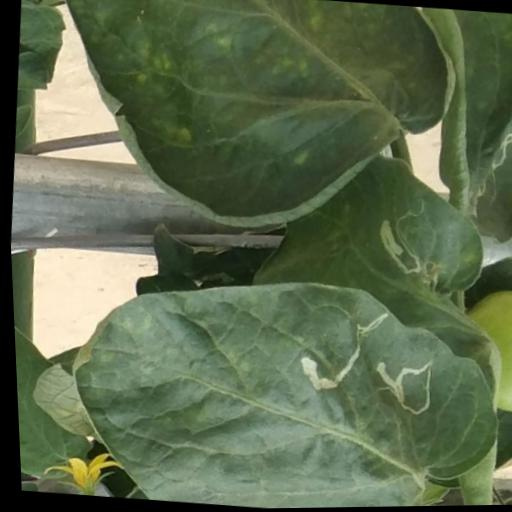Leaf_Miner: (51, 258, 510, 512), (228, 143, 512, 416), (421, 10, 512, 256)
